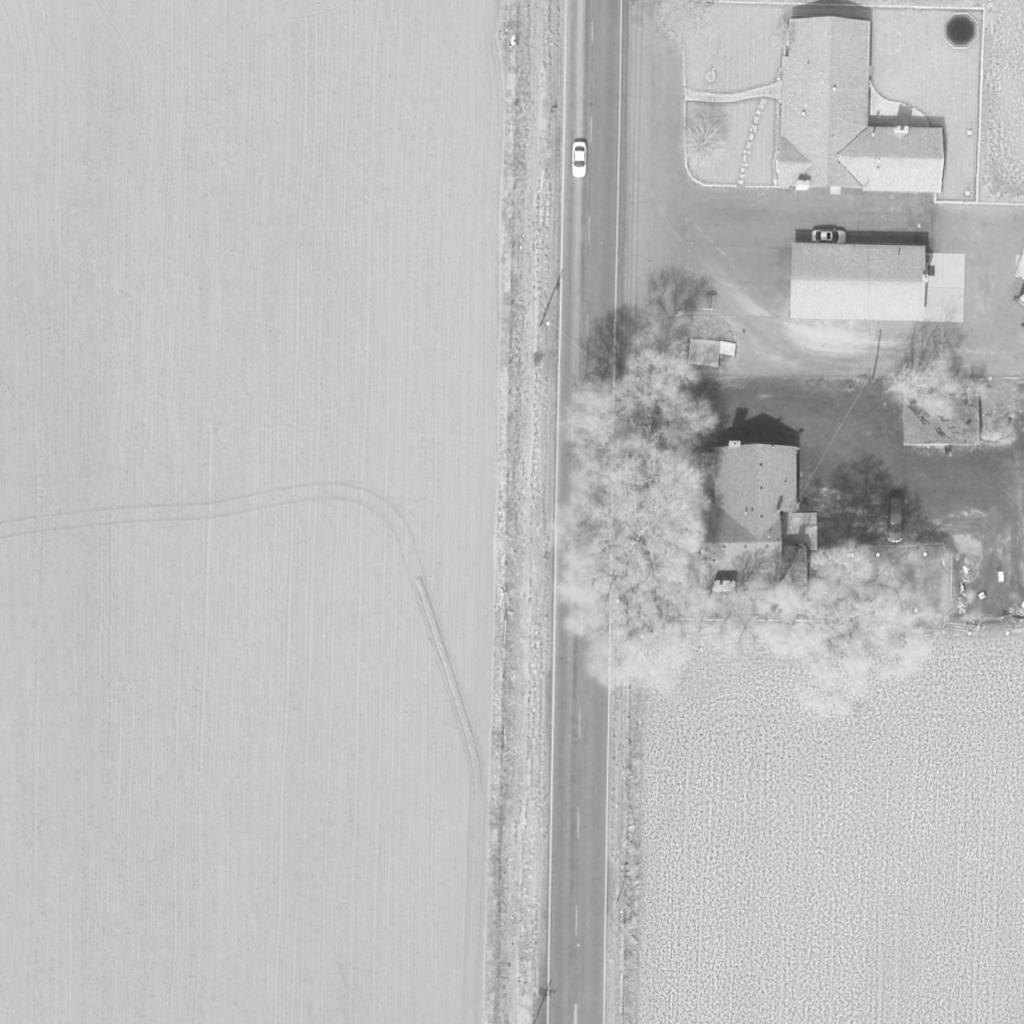vehicle: (888, 493, 906, 543), (572, 139, 588, 179), (810, 229, 850, 243)
